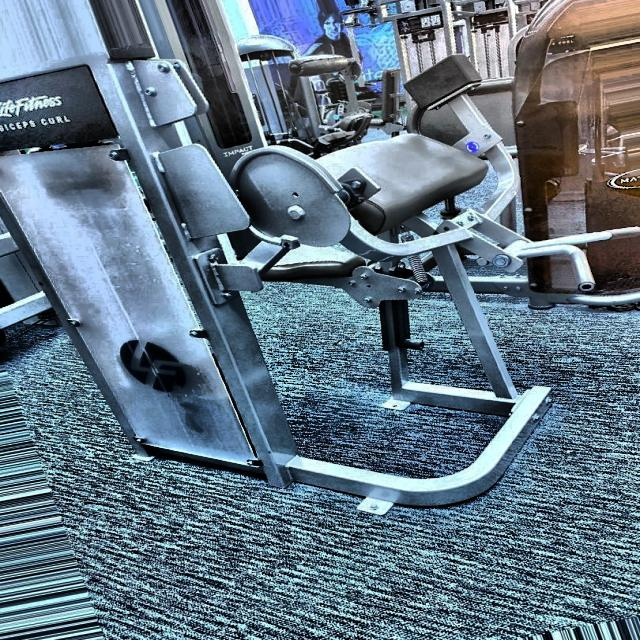bicep_curl_machine: (165, 9, 633, 528), (0, 109, 83, 140)
